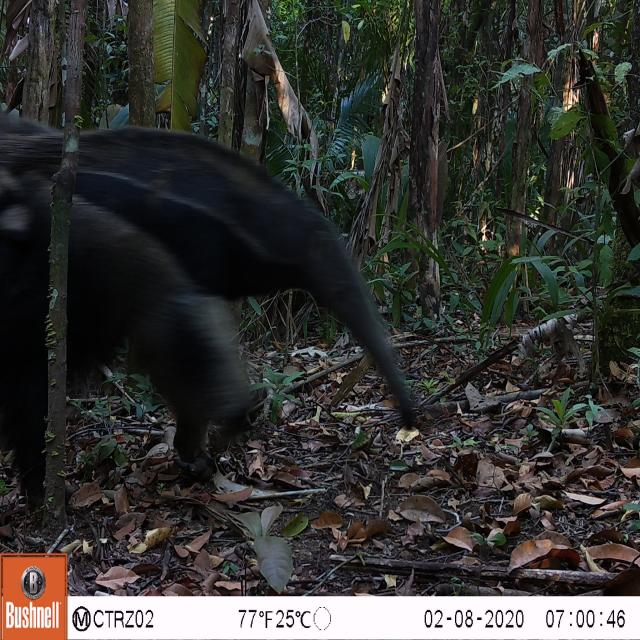Giant Anteater: (0, 96, 417, 488)
